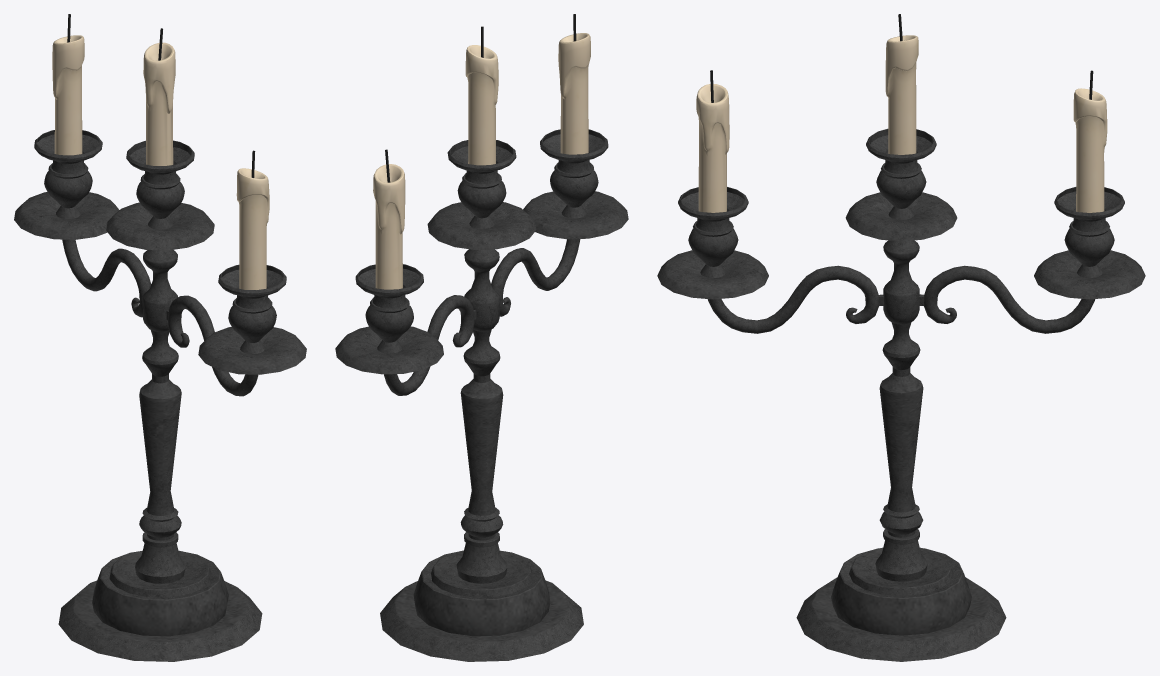
File: black_candle_holder.glb
3 views of the same model, side by side, from view 1: azimuth 30°, elevation 25°; view 2: azimuth 150°, elevation 25°; view 3: azimuth 270°, elevation 25° (orthographic). The views are drawn at different scales.
Visible parts, largest first — view 1: Cylinder.018, Circle.012, Circle.013, Circle.014; view 2: Cylinder.018, Circle.014, Circle.012, Circle.013; view 3: Cylinder.018, Circle.012, Circle.014, Circle.013.
Boxes of the visible parts, x1=… form: Cylinder.018: x1=14, y1=130, x2=306, y2=661; Circle.012: x1=236, y1=168, x2=269, y2=289; Circle.013: x1=143, y1=42, x2=175, y2=165; Circle.014: x1=52, y1=35, x2=84, y2=155; Cylinder.018: x1=335, y1=129, x2=628, y2=661; Circle.014: x1=373, y1=164, x2=405, y2=289; Circle.012: x1=558, y1=33, x2=590, y2=154; Circle.013: x1=465, y1=45, x2=498, y2=165; Cylinder.018: x1=657, y1=128, x2=1145, y2=661; Circle.012: x1=696, y1=83, x2=729, y2=212; Circle.014: x1=1073, y1=88, x2=1107, y2=212; Circle.013: x1=885, y1=35, x2=918, y2=154.
Bounding box in the file's own units: 0.2302 × 0.73 × 0.5356.
1 material, 1 textured.
